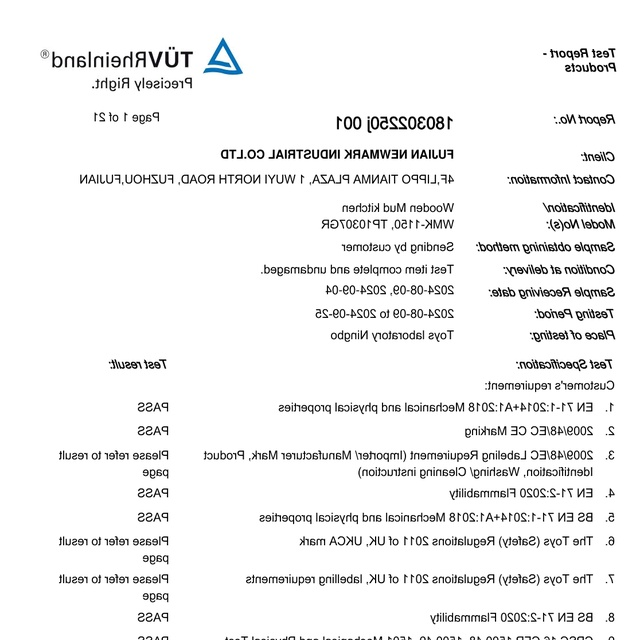tuv_rheinland: (36, 36, 246, 78)
